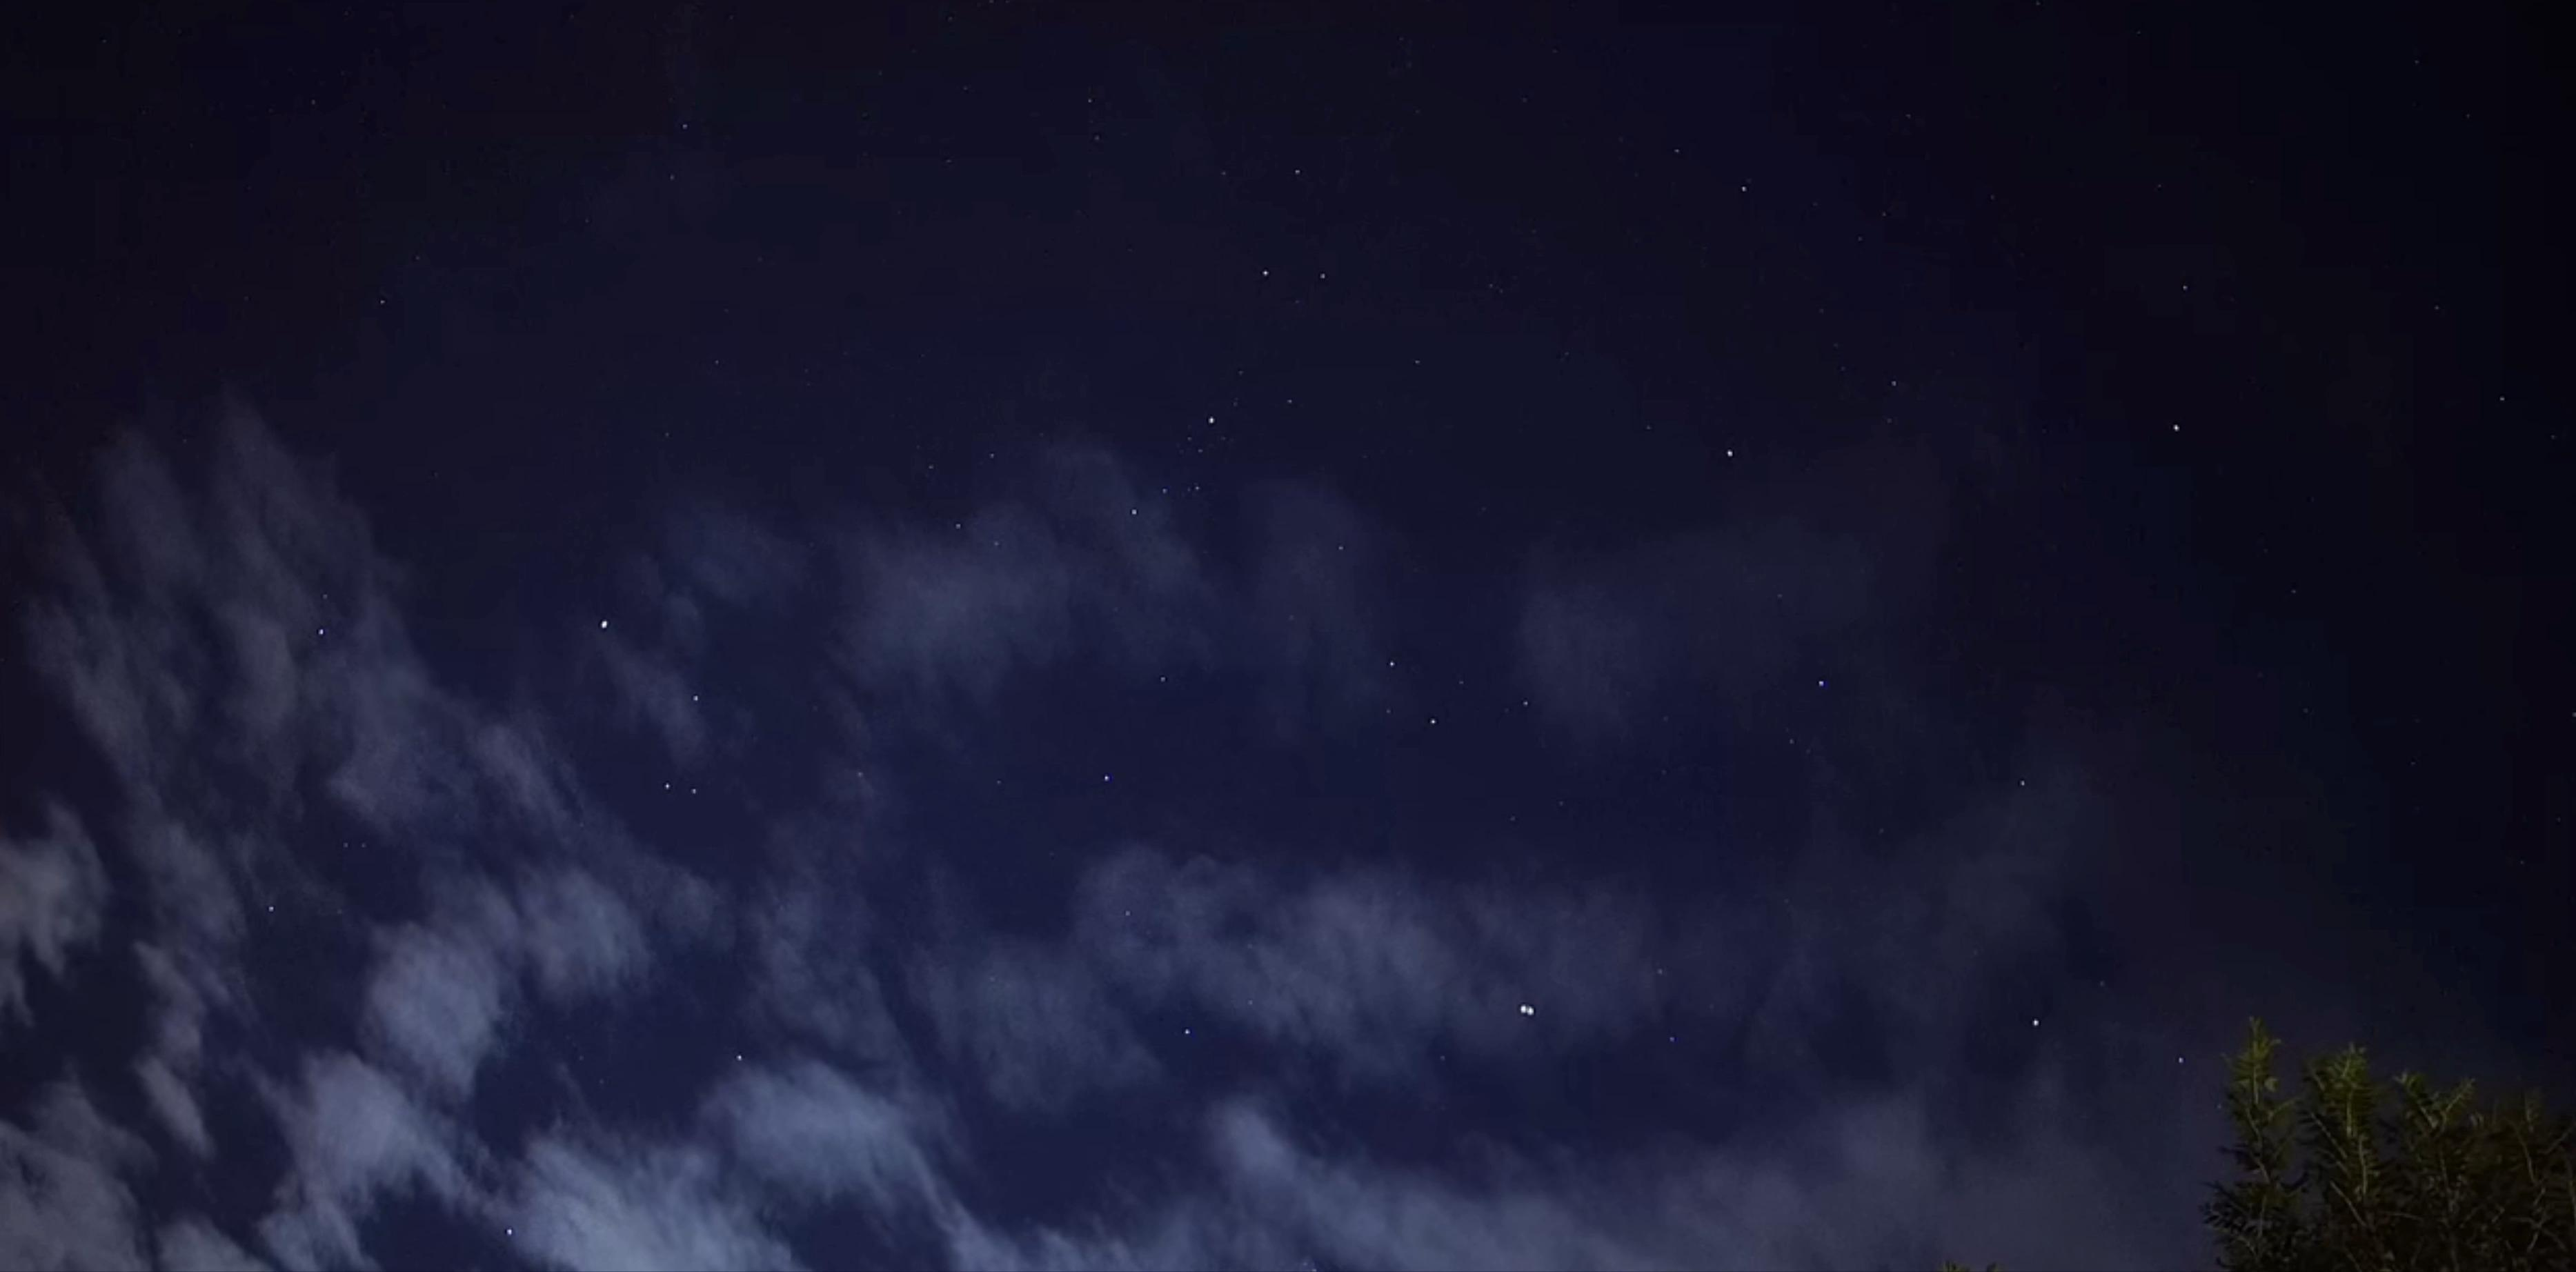Plane: (1510, 988, 1546, 1035)
